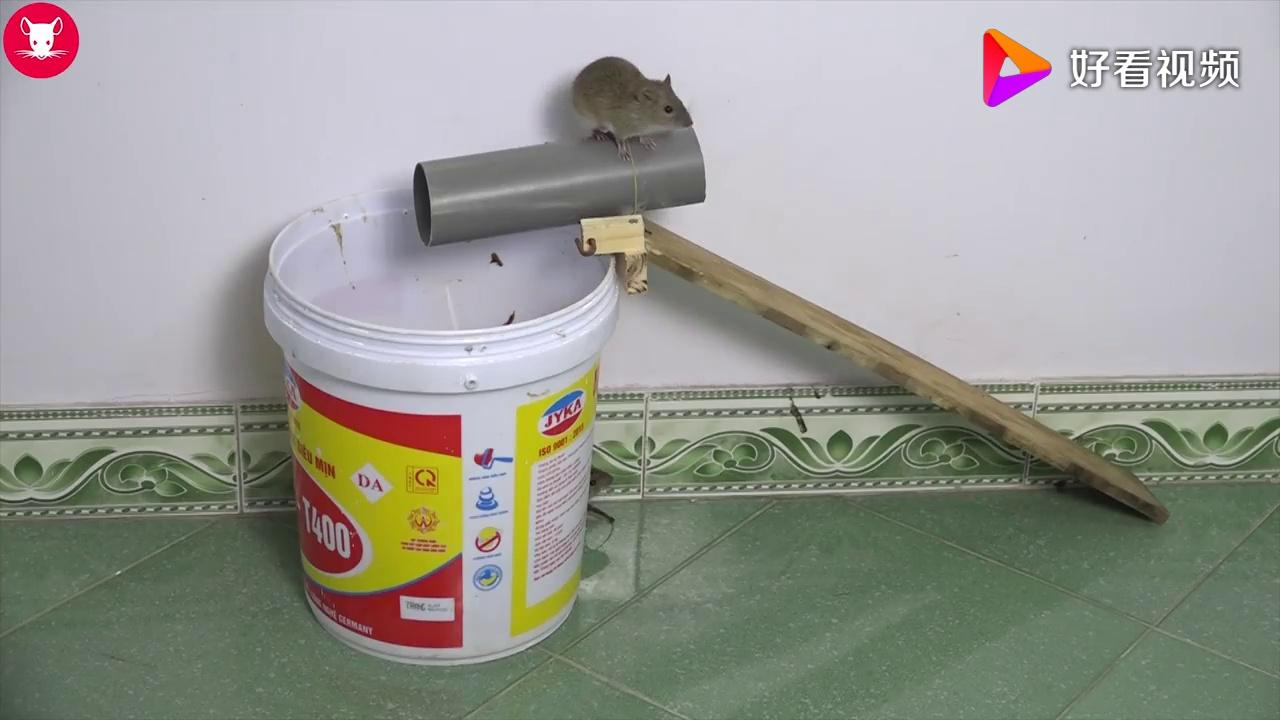rat: (559, 44, 700, 161)
